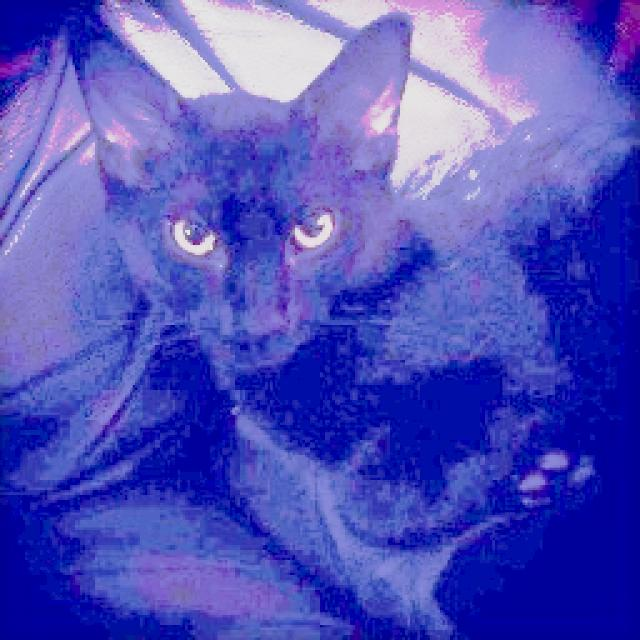cat: (65, 7, 628, 570)
